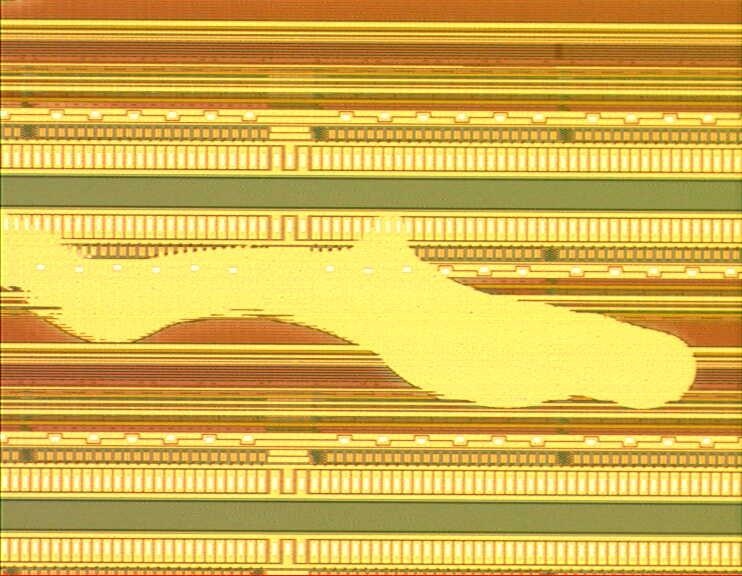COATING BAD: (1, 207, 698, 415)
